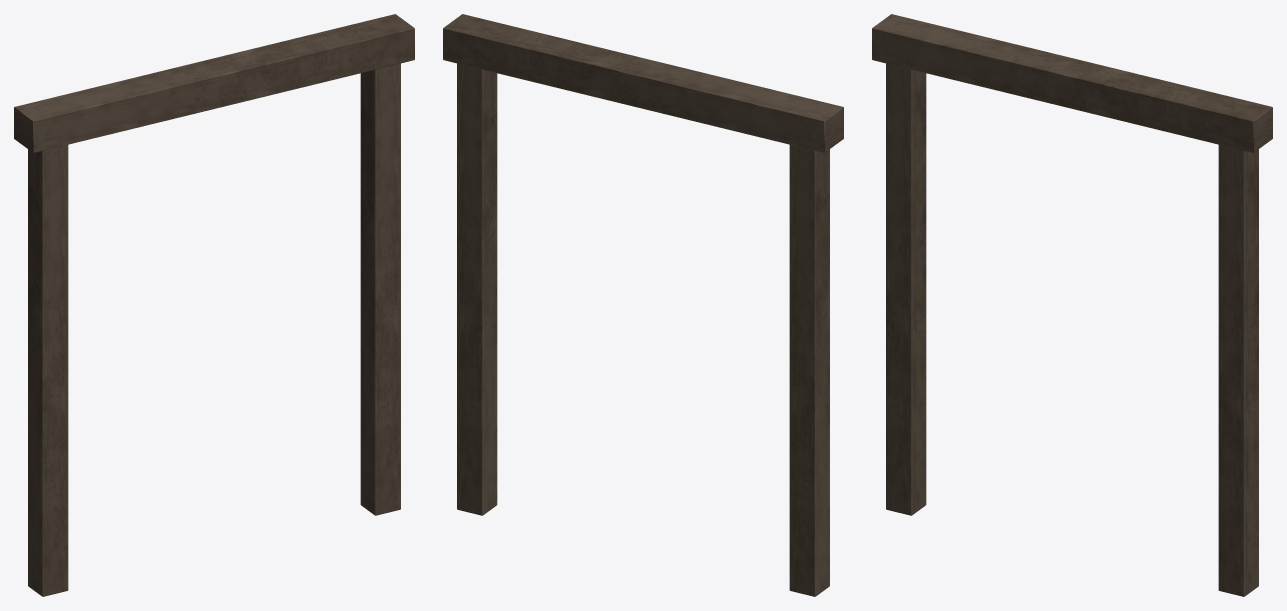
The model's file is BW_FamilyCottageB01_PorchTimber.fbx.
3 views of the same model, side by side, from view 1: azimuth 30°, elevation 25°; view 2: azimuth 150°, elevation 25°; view 3: azimuth 330°, elevation 25° (orthographic).
Visible parts, largest first — view 1: BW_FamilyCottageB01_PorchTimber; view 2: BW_FamilyCottageB01_PorchTimber; view 3: BW_FamilyCottageB01_PorchTimber.
Boxes of the visible parts, left/top/right/bottom form: BW_FamilyCottageB01_PorchTimber: left=14, top=14, right=414, bottom=596; BW_FamilyCottageB01_PorchTimber: left=443, top=14, right=843, bottom=596; BW_FamilyCottageB01_PorchTimber: left=872, top=14, right=1272, bottom=596.
Size of the model in its own units: 2.48 by 2.98 by 0.22.
